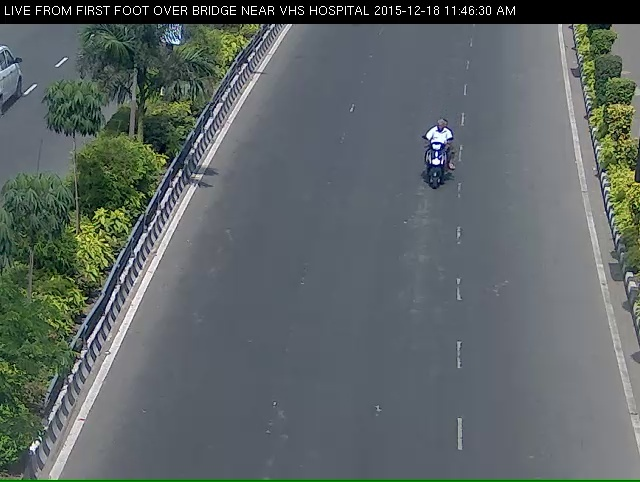Person: (416, 121, 453, 205)
